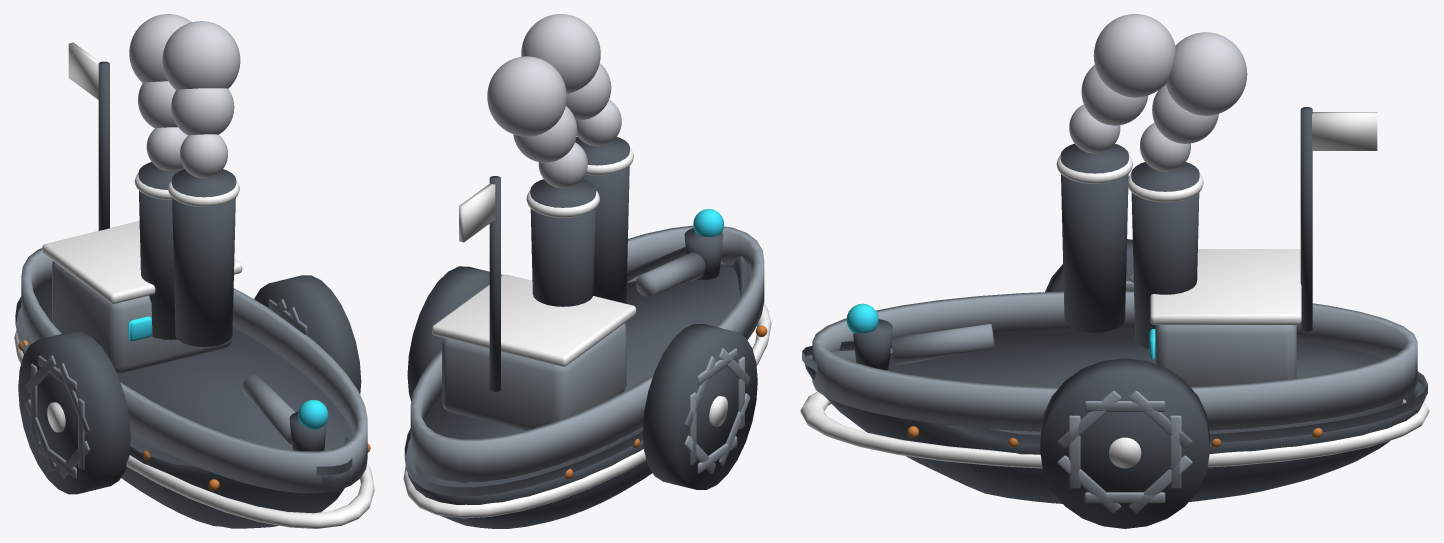
Rendered from barco_robot.glb.
The picture shows the model from 3 angles, left to right: view 1: azimuth 30°, elevation 25°; view 2: azimuth 150°, elevation 25°; view 3: azimuth 270°, elevation 25°; orthographic projection. The views are drawn at different scales.
Visible parts, largest first — view 1: Barco_robot_fijo; view 2: Barco_robot_fijo; view 3: Barco_robot_fijo.
Part boxes in pixels (x1,y1,x2,y2): Barco_robot_fijo: (14, 14, 374, 528); Barco_robot_fijo: (403, 14, 771, 528); Barco_robot_fijo: (800, 14, 1429, 528).
Bounding box in the file's own units: 1.64 × 2.65 × 3.12.
Materials: 2 (2 with a texture image).
